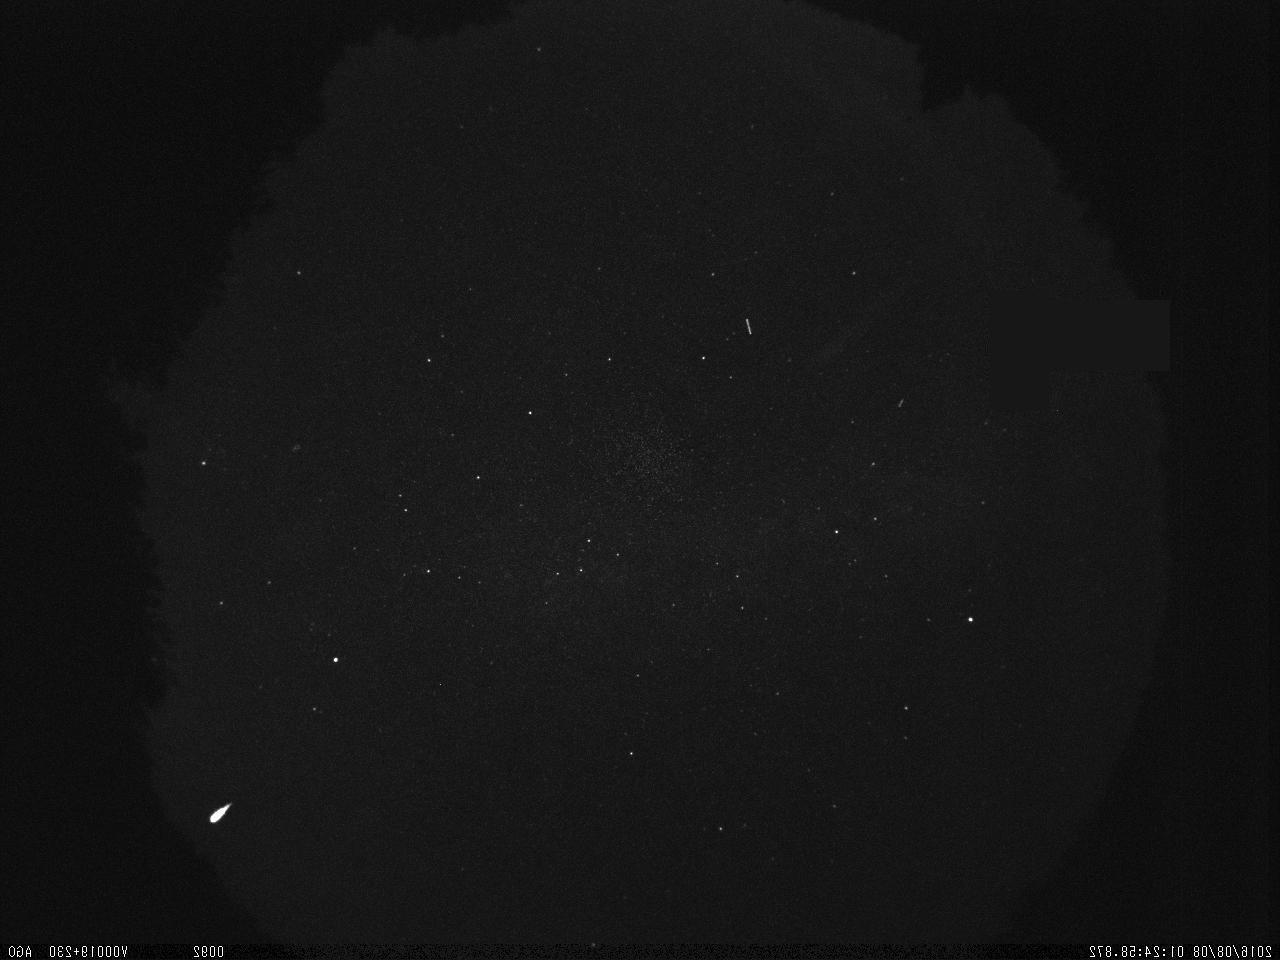meteor: (203, 793, 235, 831)
satelite: (743, 313, 758, 344)
